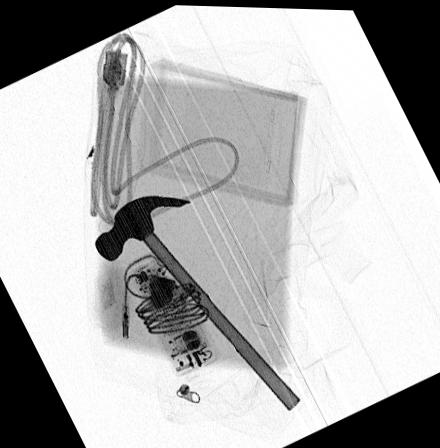Hammer: (92, 194, 299, 410)
